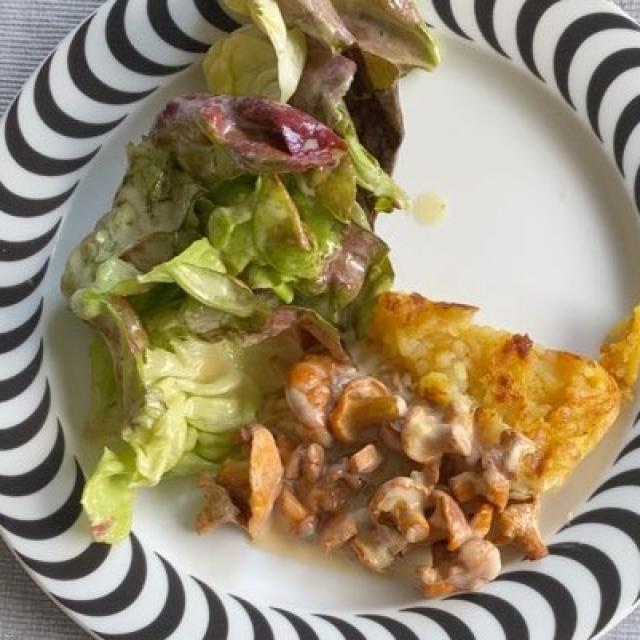rosti: (374, 301, 634, 481)
salad-leaf-salad-green: (68, 1, 444, 545)
sauce-cream: (266, 521, 366, 570)
